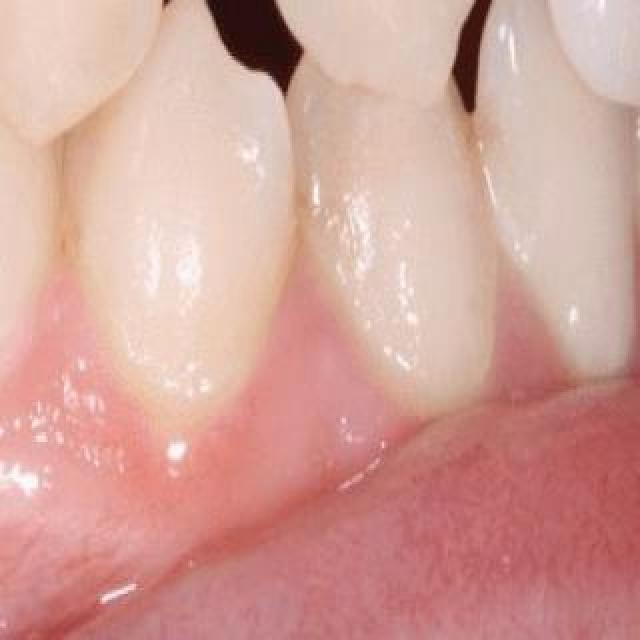spacing: (124, 0, 310, 86), (440, 0, 578, 12)
